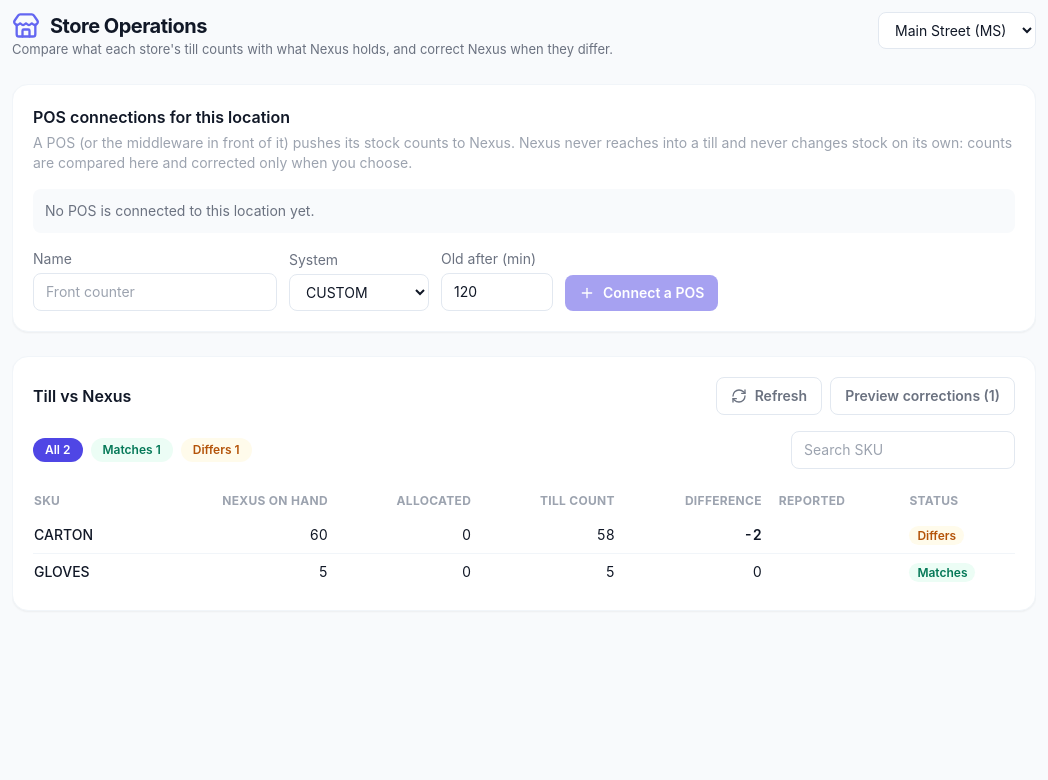
Test: StoreOperationsPage › previews first; the apply button only exists after a preview that has something to apply
Expected: the text "CARTON" is shown, [33,516,152,553]
Expected: the button "Apply corrections" is not shown
Click the button "Preview corrections (1)".
click(923, 396)  # box [830,376,1015,414]
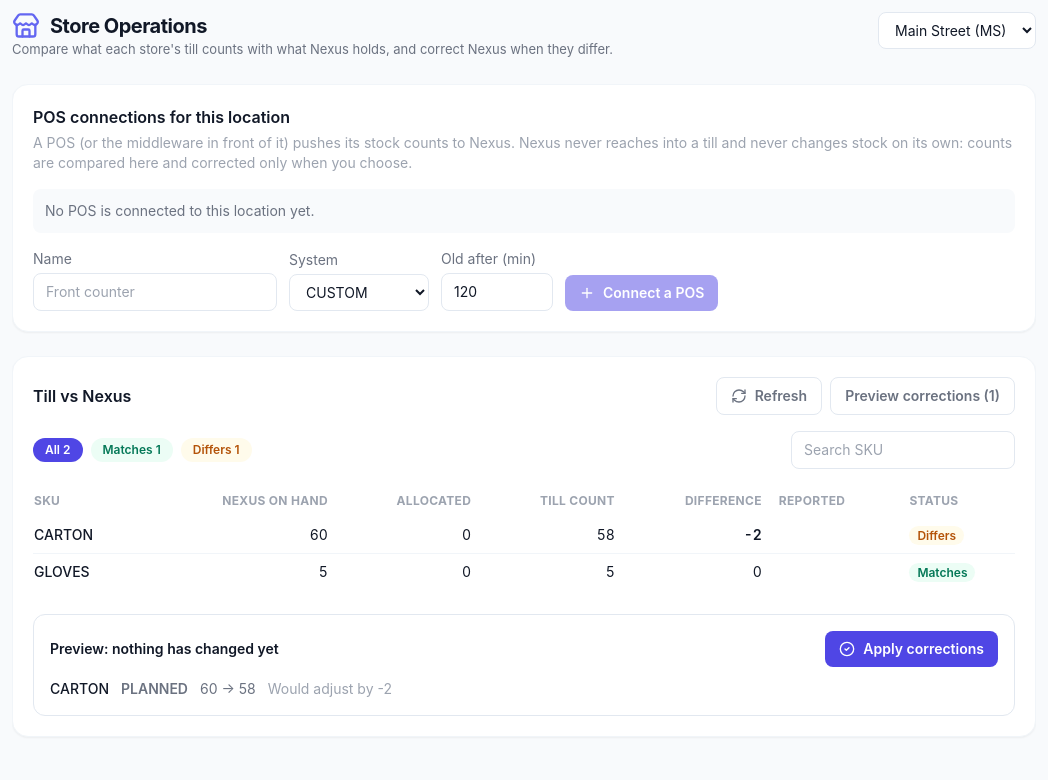
Expected: the heading "Preview: nothing has changed yet" is shown, [50,638,279,659]
Expected: the button "Apply corrections" is shown, [825,630,998,666]
